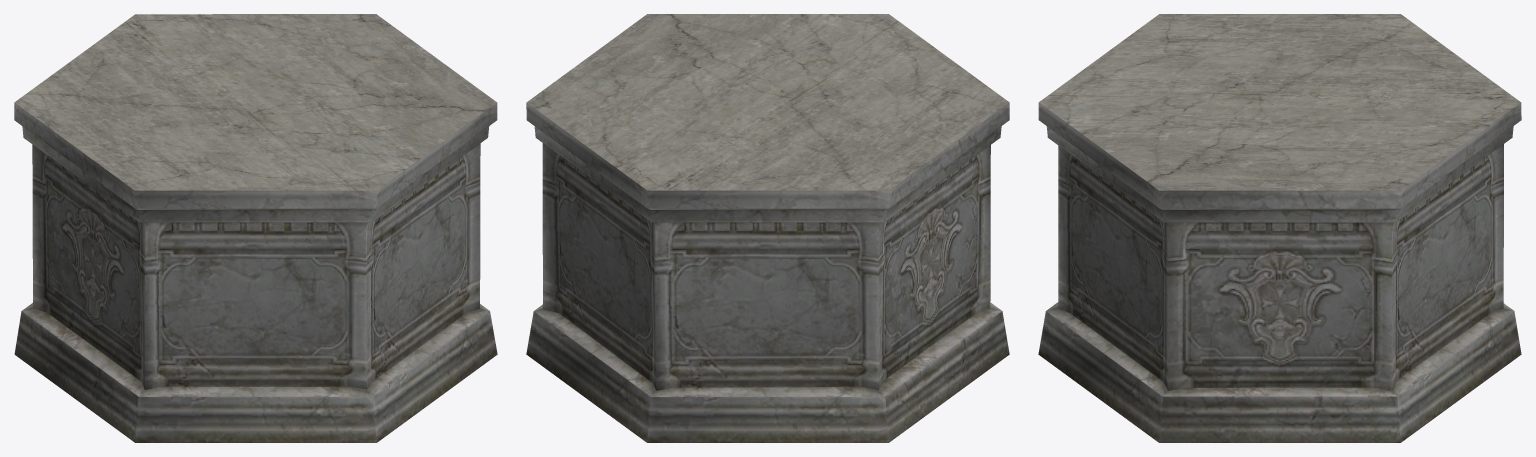
File: bg_lut_lucastle_herostatue01a_sm_artree.FBX
The picture shows the model from 3 angles, left to right: view 1: azimuth 30°, elevation 25°; view 2: azimuth 150°, elevation 25°; view 3: azimuth 270°, elevation 25°; orthographic projection.
Visible parts, largest first — view 1: bg_lut_lucastle_herostatue01a_sm_artree; view 2: bg_lut_lucastle_herostatue01a_sm_artree; view 3: bg_lut_lucastle_herostatue01a_sm_artree.
Boxes of the visible parts, x1=… form: bg_lut_lucastle_herostatue01a_sm_artree: x1=14, y1=14, x2=497, y2=442; bg_lut_lucastle_herostatue01a_sm_artree: x1=526, y1=14, x2=1009, y2=442; bg_lut_lucastle_herostatue01a_sm_artree: x1=1038, y1=14, x2=1521, y2=442.
Size of the model in its own units: 215 by 143 by 248.
